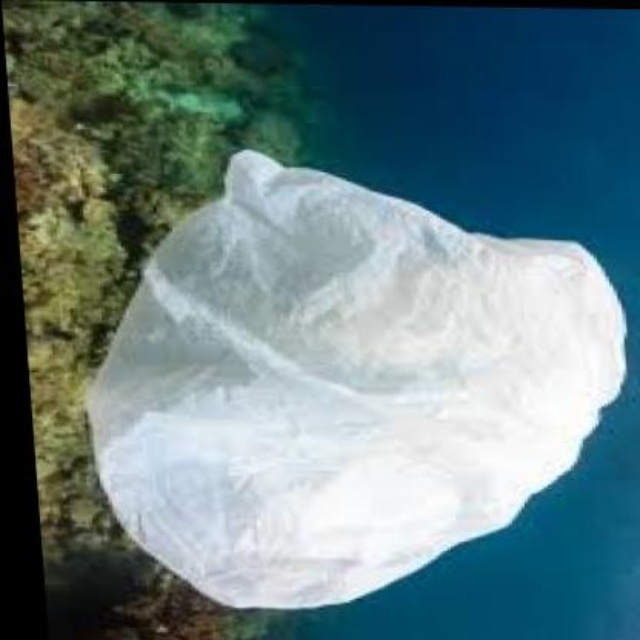trash: (88, 151, 623, 606)
